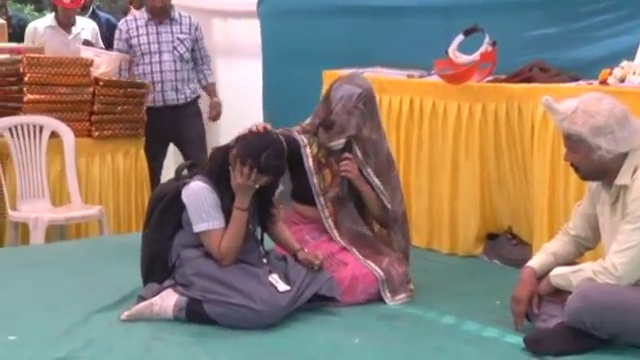helmet: (77, 41, 132, 81)
helmet_off: (544, 99, 623, 192), (212, 123, 288, 199), (316, 73, 378, 145), (52, 0, 83, 30)
person: (118, 122, 334, 326), (262, 71, 415, 306), (507, 92, 640, 357), (117, 0, 218, 191), (23, 0, 106, 57), (77, 0, 116, 44)
